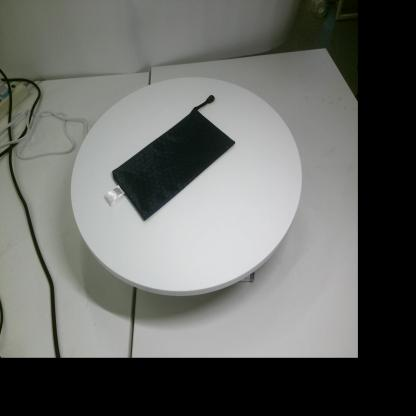Stationery: (105, 94, 235, 220)
